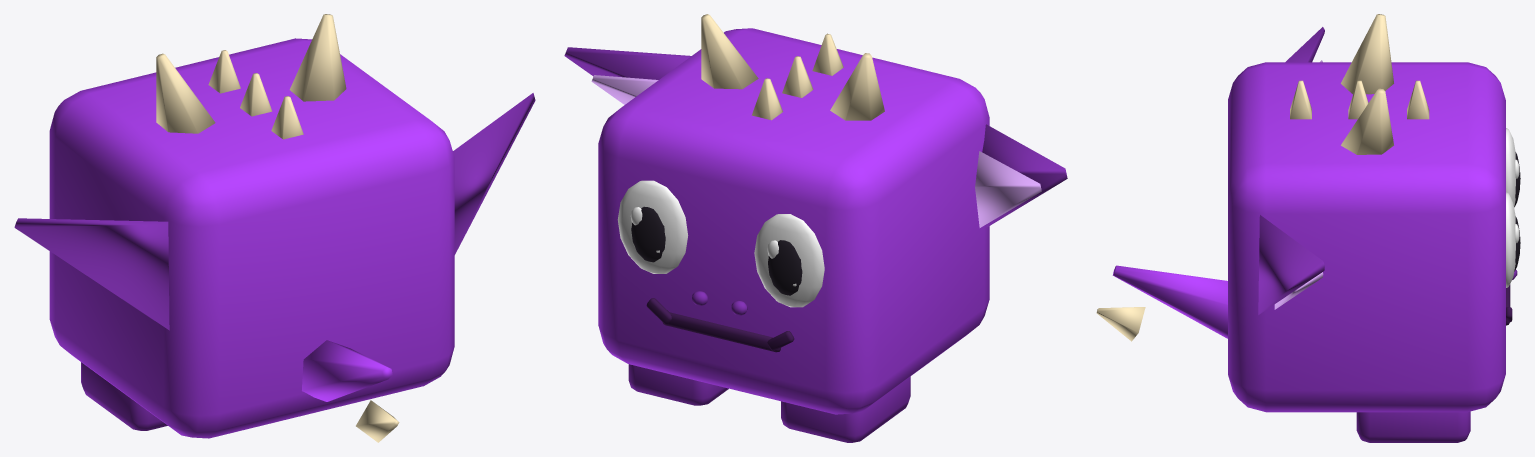
The model's file is pet_dragon.fbx.
3 renders of one model, left to right at view 1: azimuth 30°, elevation 25°; view 2: azimuth 150°, elevation 25°; view 3: azimuth 270°, elevation 25°, orthographic. The views are drawn at different scales.
Parts seen in each view (by area): view 1: pet_dragon; view 2: pet_dragon; view 3: pet_dragon.
Part boxes in pixels (left/top/right/bottom): pet_dragon: left=14, top=14, right=535, bottom=442; pet_dragon: left=564, top=14, right=1067, bottom=442; pet_dragon: left=1096, top=14, right=1520, bottom=442.
Bounding box in the file's own units: 3.83 × 2.57 × 2.9.
1 material, 1 textured.
